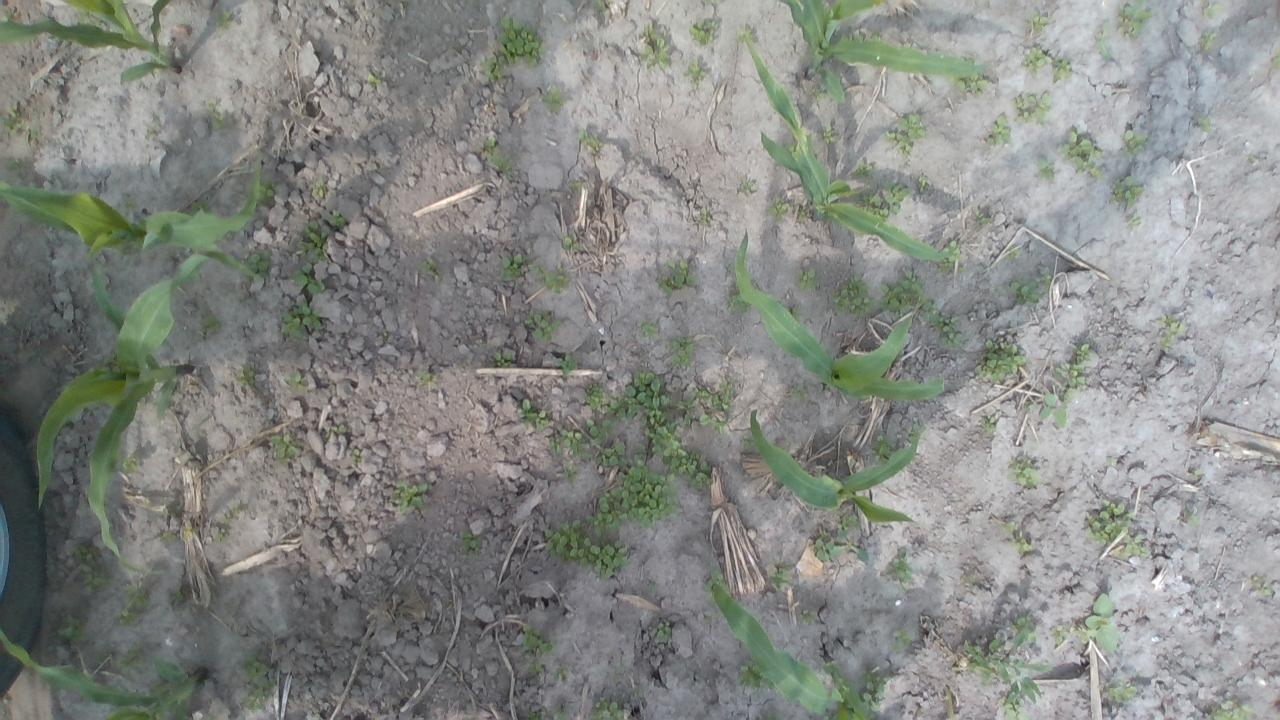Maize: (35, 253, 224, 578), (732, 29, 949, 261), (733, 228, 944, 400), (0, 157, 264, 256), (702, 580, 879, 720), (775, 0, 987, 108), (746, 408, 922, 528), (0, 626, 200, 720), (0, 0, 184, 89)
Weeds: (610, 454, 683, 529), (643, 420, 713, 486), (606, 370, 674, 427), (544, 520, 600, 570), (999, 656, 1052, 704), (972, 340, 1029, 384), (238, 654, 280, 713), (1059, 130, 1107, 180), (72, 542, 116, 596), (1083, 496, 1132, 544), (879, 268, 926, 318), (498, 16, 544, 67), (1086, 592, 1120, 656), (856, 180, 909, 221), (884, 112, 926, 158), (280, 298, 325, 340), (960, 638, 1000, 684), (830, 273, 874, 313), (391, 480, 438, 516), (949, 56, 987, 99), (594, 541, 632, 583), (638, 22, 672, 68), (654, 256, 697, 292), (1011, 90, 1053, 126), (859, 666, 890, 714), (1116, 0, 1152, 40), (692, 379, 736, 411), (586, 496, 619, 537), (830, 528, 871, 561), (296, 218, 328, 260), (927, 312, 964, 348), (996, 277, 1040, 305), (740, 658, 776, 692), (524, 310, 564, 340), (520, 625, 558, 656), (1156, 314, 1186, 353), (886, 548, 913, 590), (1005, 456, 1040, 488), (703, 566, 731, 606), (996, 692, 1034, 720), (517, 398, 550, 430), (664, 336, 696, 368), (1113, 176, 1146, 207), (270, 433, 300, 467), (560, 428, 590, 461), (535, 263, 568, 293), (937, 240, 966, 274), (1040, 393, 1066, 430), (1020, 46, 1050, 78), (291, 264, 325, 292), (1051, 362, 1087, 388), (59, 614, 90, 644), (118, 643, 146, 676), (1208, 700, 1254, 720), (726, 282, 752, 315), (242, 248, 272, 276), (809, 530, 834, 562), (1122, 129, 1147, 161), (986, 113, 1010, 146), (590, 697, 624, 720), (596, 443, 628, 467), (1013, 614, 1037, 646), (1106, 678, 1138, 702), (122, 584, 150, 611), (586, 417, 612, 446), (0, 104, 24, 135), (1121, 534, 1149, 560), (1094, 21, 1112, 61), (685, 61, 708, 92), (872, 432, 894, 464), (458, 530, 484, 557), (499, 253, 525, 280), (206, 100, 229, 130), (543, 84, 566, 114), (770, 560, 794, 588), (1051, 56, 1073, 86), (691, 18, 716, 44), (584, 382, 608, 409), (675, 397, 698, 424), (114, 608, 144, 628), (1034, 264, 1054, 294), (480, 55, 504, 80), (483, 148, 510, 170), (421, 257, 443, 284), (554, 352, 578, 376), (577, 128, 603, 150), (256, 179, 278, 205), (236, 364, 258, 389), (220, 505, 243, 528), (766, 196, 788, 220), (698, 414, 727, 432), (796, 266, 816, 292), (283, 370, 305, 393), (635, 321, 659, 341), (1036, 158, 1056, 182), (1024, 14, 1048, 34), (1198, 30, 1218, 54), (1010, 536, 1036, 554), (214, 8, 234, 31), (851, 161, 876, 179), (1049, 624, 1070, 645), (892, 629, 912, 650), (326, 207, 346, 228), (558, 231, 580, 250), (190, 196, 213, 214), (200, 314, 223, 332), (838, 512, 861, 530), (1252, 574, 1272, 594), (416, 368, 437, 387), (1072, 342, 1090, 364), (656, 621, 672, 645), (100, 353, 120, 372), (23, 123, 41, 144), (546, 434, 564, 455), (1076, 626, 1096, 644), (123, 452, 140, 472), (820, 124, 837, 144), (1202, 3, 1222, 20), (798, 609, 819, 625), (836, 30, 864, 42), (795, 382, 810, 404), (489, 353, 511, 368), (1184, 511, 1202, 529), (552, 666, 571, 683), (562, 463, 578, 483), (524, 663, 546, 677), (734, 27, 754, 42), (982, 416, 998, 434), (697, 207, 712, 226), (1127, 213, 1142, 232), (790, 304, 806, 321), (974, 209, 990, 226), (1194, 116, 1211, 132), (908, 422, 922, 441), (922, 297, 933, 321), (122, 194, 139, 209), (168, 588, 186, 602), (810, 87, 828, 101), (151, 681, 170, 694), (1003, 247, 1022, 260), (740, 434, 756, 449), (740, 178, 755, 194), (312, 179, 324, 199), (916, 175, 930, 192), (162, 501, 176, 517), (784, 140, 798, 156), (796, 205, 809, 222), (1002, 519, 1015, 535), (213, 532, 230, 544), (1061, 388, 1078, 400), (868, 28, 882, 42), (4, 158, 20, 170), (554, 709, 571, 720), (592, 0, 606, 13), (366, 74, 381, 86), (766, 710, 784, 720), (1271, 49, 1280, 68), (161, 532, 178, 542), (352, 448, 361, 466), (328, 424, 348, 432), (615, 660, 628, 672), (0, 10, 13, 22), (1104, 456, 1118, 467), (632, 686, 646, 696), (528, 262, 541, 272), (703, 614, 718, 622), (1246, 154, 1258, 164), (483, 137, 495, 146), (647, 582, 660, 590), (1190, 470, 1203, 478), (1025, 401, 1035, 411), (528, 712, 540, 720), (100, 650, 110, 659), (698, 0, 717, 4), (379, 332, 388, 340), (1115, 342, 1123, 351), (574, 180, 582, 189)
